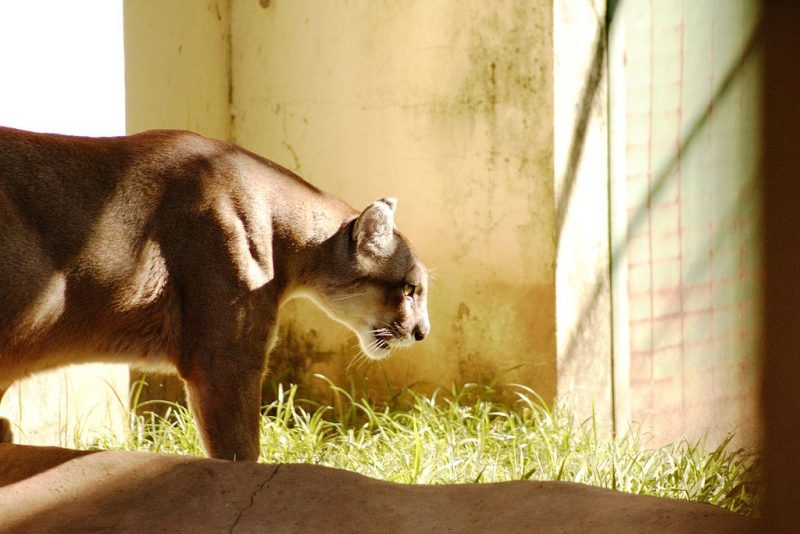OncaParda: (5, 112, 436, 470)
